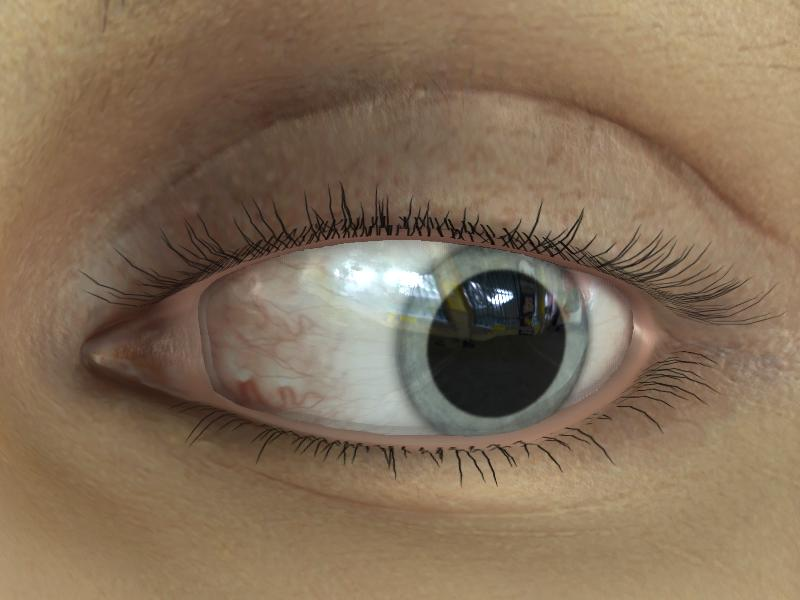eye: (395, 242, 587, 432)
